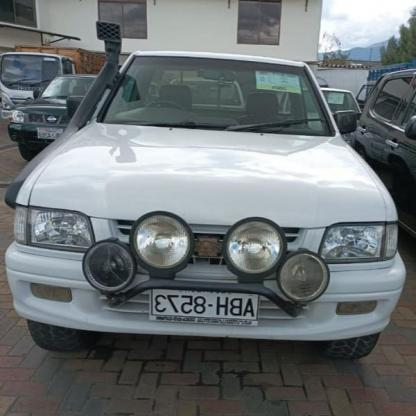Placa: (145, 292, 260, 330)
